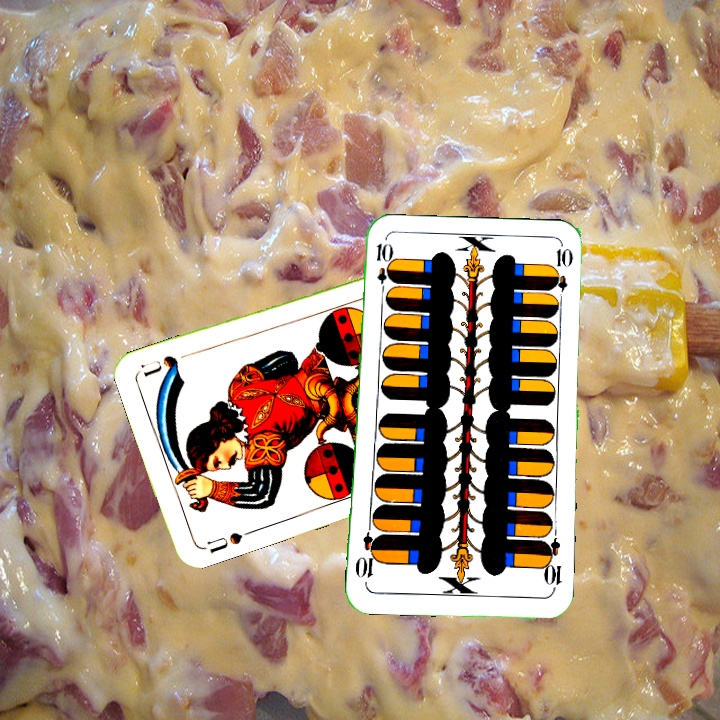E10: (539, 534, 564, 594), (372, 239, 390, 298)
SU: (198, 528, 245, 556)
